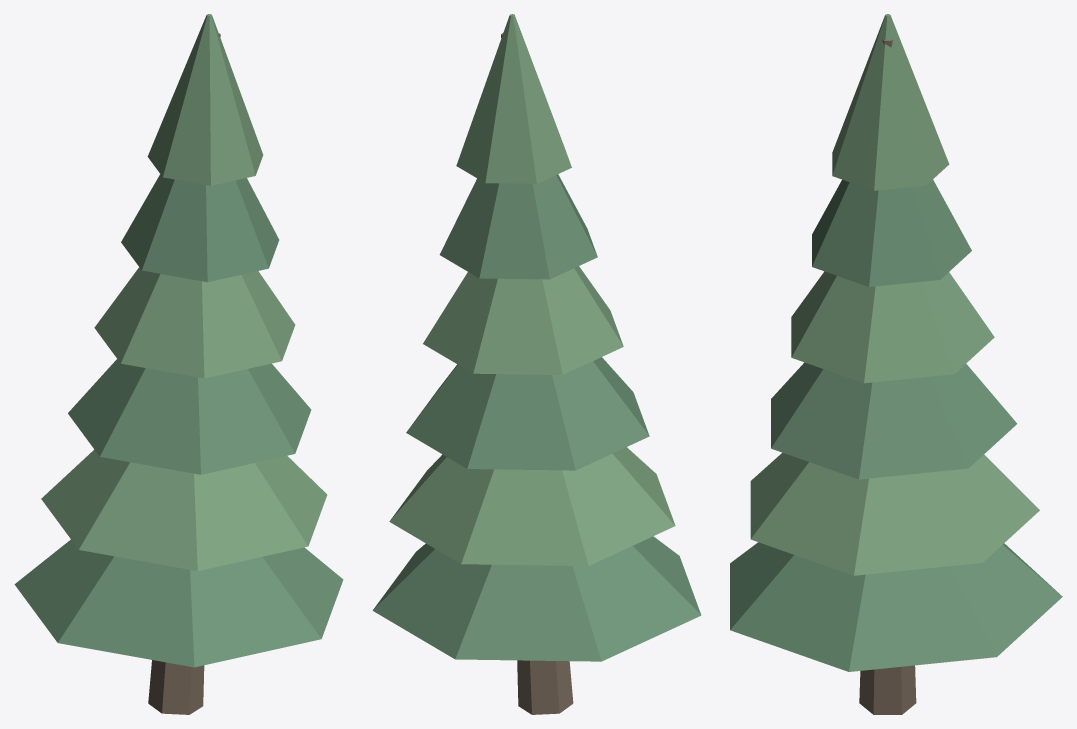
File: pine_v23.glb
3 renders of one model, left to right at view 1: azimuth 30°, elevation 25°; view 2: azimuth 150°, elevation 25°; view 3: azimuth 270°, elevation 25°, orthographic. The views are drawn at different scales.
Visible parts, largest first — view 1: lod0; view 2: lod0; view 3: lod0.
Boxes of the visible parts, <box> form: lod0: <box>14,14,343,714</box>; lod0: <box>372,14,701,714</box>; lod0: <box>730,14,1062,714</box>.
Size of what is drawn, in the model's own units: 2.39 by 5.47 by 2.34.
